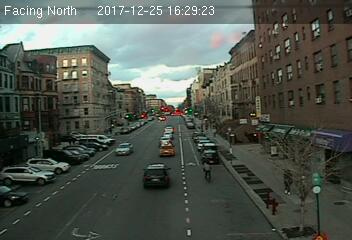bicycle: (203, 160, 212, 184)
car: (142, 163, 170, 190), (201, 149, 219, 163), (115, 142, 134, 155), (158, 141, 175, 155), (159, 135, 172, 145)
